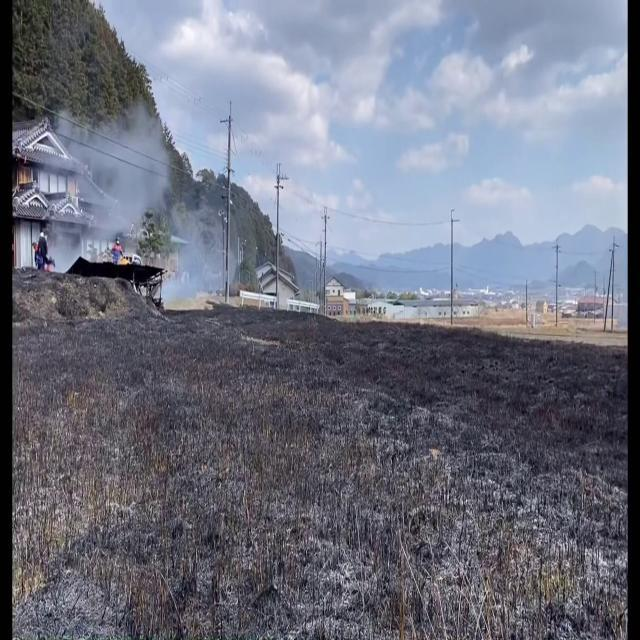Smoke: (52, 100, 173, 258), (160, 182, 238, 305)
